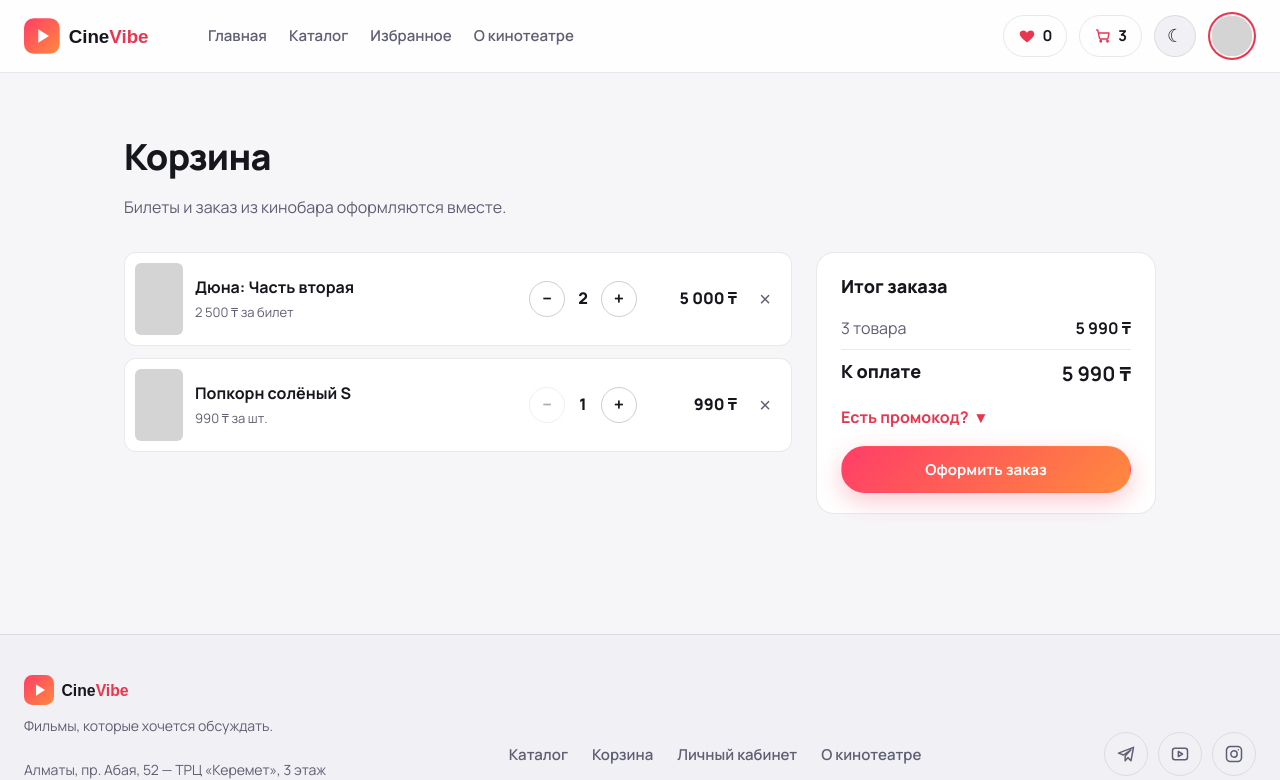
Test case: Корзина /cart › оформление: подтверждение в окне, заказ появляется в «Моих заказах»
Step 1. Click the button "Оформить заказ" → [986, 470], box [841,446,1131,493]
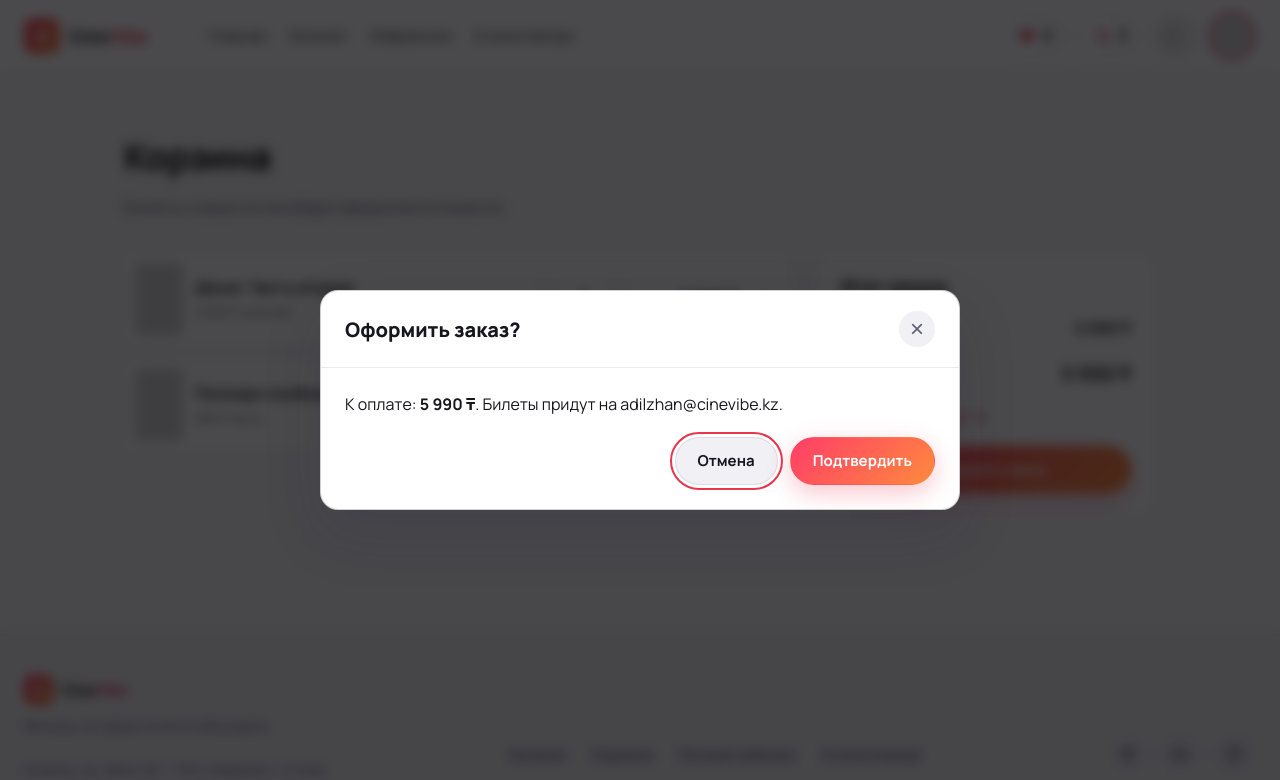
Step 2. Click the button "Подтвердить" → [862, 461], box [790,437,935,485]
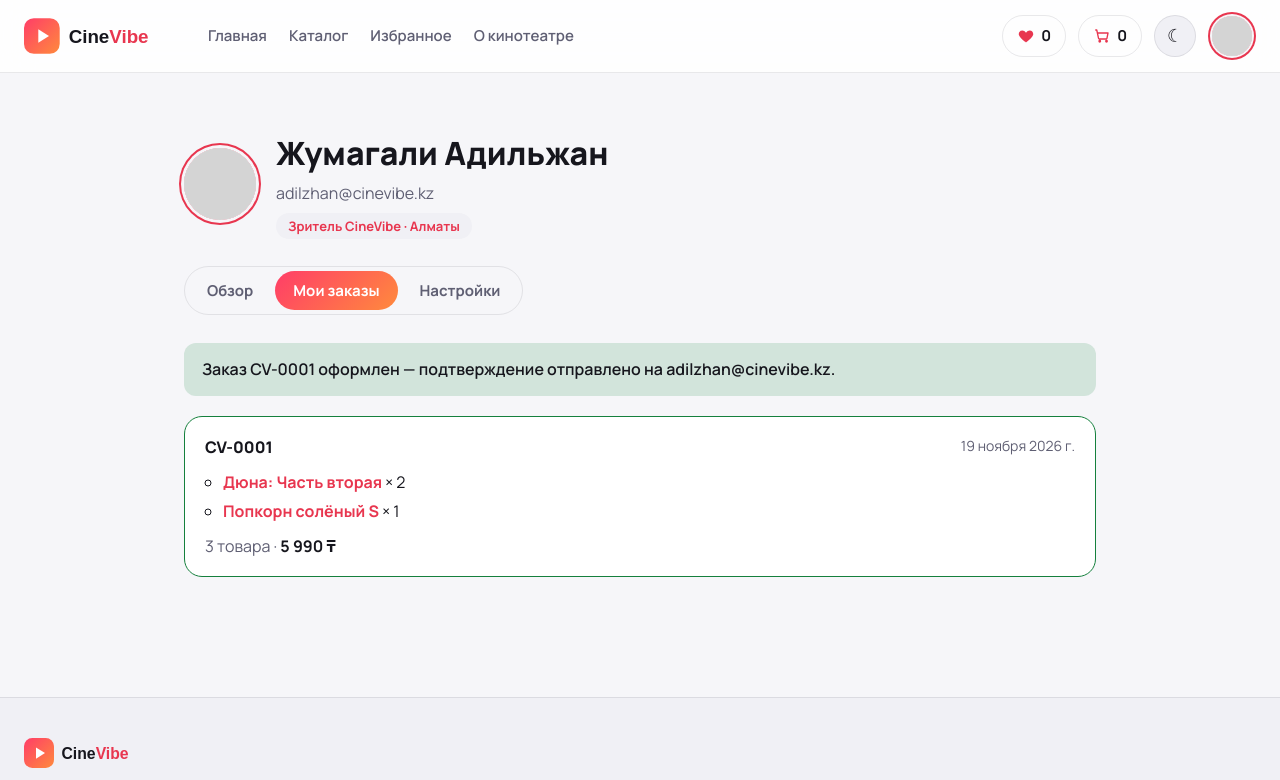
Expected: the text "CV-0001" is shown, [205,435,273,460]
Expected: the link to "/cart" reads "0", [1078,15,1142,57]
